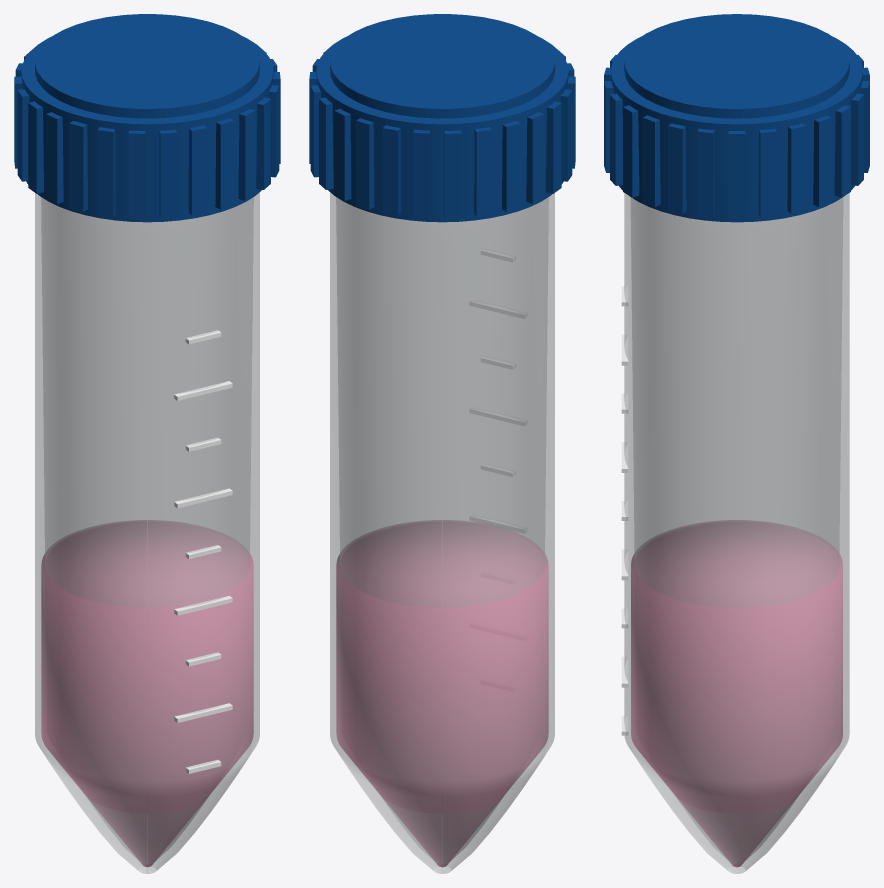
The model's file is falcon-50ml.glb.
The picture shows the model from 3 angles, left to right: view 1: azimuth 30°, elevation 25°; view 2: azimuth 150°, elevation 25°; view 3: azimuth 270°, elevation 25°; orthographic projection.
Visible parts, largest first — view 1: tube_1_shell, tube_1_medium, cap_1_top, cap_1_body, cap_1_rib_11, cap_1_rib_12, cap_1_rib_8, cap_1_rib_7, cap_1_rib_9, cap_1_rib_10, cap_1_rib_13, cap_1_rib_6 (+4 smaller); view 2: tube_1_shell, tube_1_medium, cap_1_top, cap_1_body, cap_1_rib_16, cap_1_rib_17, cap_1_rib_20, cap_1_rib_21, cap_1_rib_19, cap_1_rib_18, cap_1_rib_15, cap_1_rib_22 (+4 smaller); view 3: tube_1_shell, tube_1_medium, cap_1_top, cap_1_body, cap_1_rib_3, cap_1_rib_25, cap_1_rib_4, cap_1_rib_24, cap_1_rib_2, cap_1_rib_26, cap_1_rib_1, cap_1_rib_5 (+5 smaller).
Part boxes in pixels (x1=…): tube_1_shell: x1=35, y1=192, x2=259, y2=873; tube_1_medium: x1=41, y1=520, x2=253, y2=867; cap_1_top: x1=35, y1=14, x2=259, y2=118; cap_1_body: x1=21, y1=36, x2=273, y2=222; cap_1_rib_11: x1=97, y1=127, x2=115, y2=216; cap_1_rib_12: x1=69, y1=121, x2=87, y2=211; cap_1_rib_8: x1=188, y1=125, x2=206, y2=215; cap_1_rib_7: x1=215, y1=118, x2=233, y2=209; cap_1_rib_9: x1=159, y1=129, x2=176, y2=218; cap_1_rib_10: x1=128, y1=130, x2=145, y2=218; cap_1_rib_13: x1=46, y1=112, x2=63, y2=203; cap_1_rib_6: x1=238, y1=109, x2=255, y2=200; tube_1_shell: x1=330, y1=192, x2=554, y2=873; tube_1_medium: x1=336, y1=520, x2=548, y2=867; cap_1_top: x1=330, y1=14, x2=554, y2=118; cap_1_body: x1=316, y1=36, x2=568, y2=222; cap_1_rib_16: x1=502, y1=121, x2=520, y2=211; cap_1_rib_17: x1=474, y1=127, x2=492, y2=216; cap_1_rib_20: x1=383, y1=125, x2=401, y2=215; cap_1_rib_21: x1=356, y1=118, x2=374, y2=209; cap_1_rib_19: x1=413, y1=129, x2=430, y2=218; cap_1_rib_18: x1=444, y1=130, x2=461, y2=218; cap_1_rib_15: x1=526, y1=112, x2=543, y2=203; cap_1_rib_22: x1=334, y1=109, x2=351, y2=200; tube_1_shell: x1=624, y1=193, x2=849, y2=873; tube_1_medium: x1=631, y1=520, x2=842, y2=867; cap_1_top: x1=624, y1=14, x2=849, y2=118; cap_1_body: x1=611, y1=36, x2=862, y2=222; cap_1_rib_3: x1=668, y1=123, x2=686, y2=213; cap_1_rib_25: x1=787, y1=123, x2=805, y2=213; cap_1_rib_4: x1=642, y1=115, x2=660, y2=206; cap_1_rib_24: x1=813, y1=115, x2=831, y2=206; cap_1_rib_2: x1=697, y1=128, x2=715, y2=217; cap_1_rib_26: x1=758, y1=128, x2=776, y2=217; cap_1_rib_1: x1=728, y1=131, x2=745, y2=218; cap_1_rib_5: x1=623, y1=105, x2=639, y2=197.
Size of the model in its own units: 0.0354 by 0.1189 by 0.0354.
